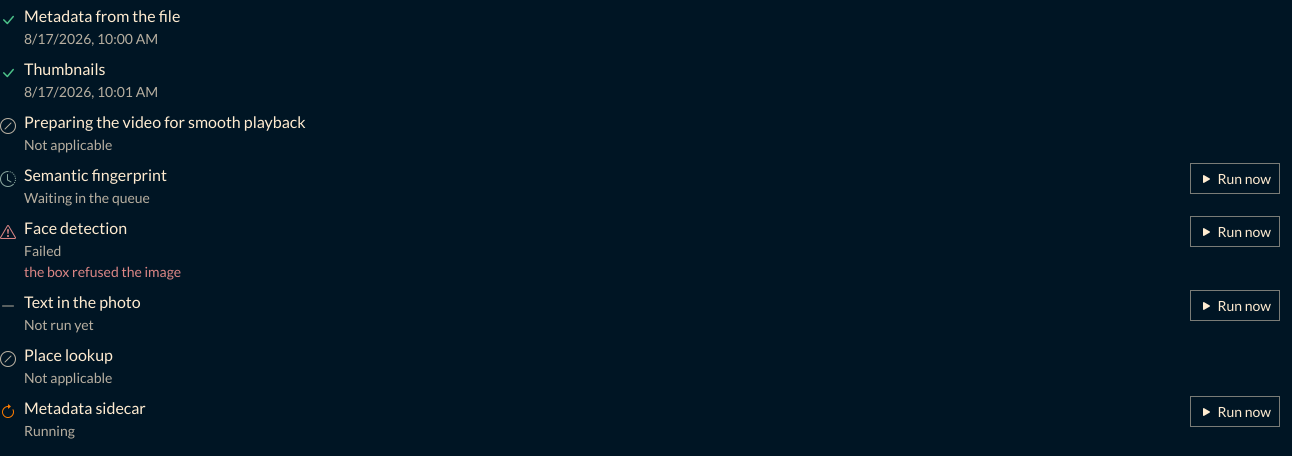
Test case: ProcessingPanel › schedules the step and refreshes its row
What coordinates should you click on to do the following:
click the button "Run now" in the row of "Text in the photo"
I would click on:
 (1235, 306)
Its box is [1190,290,1280,321].
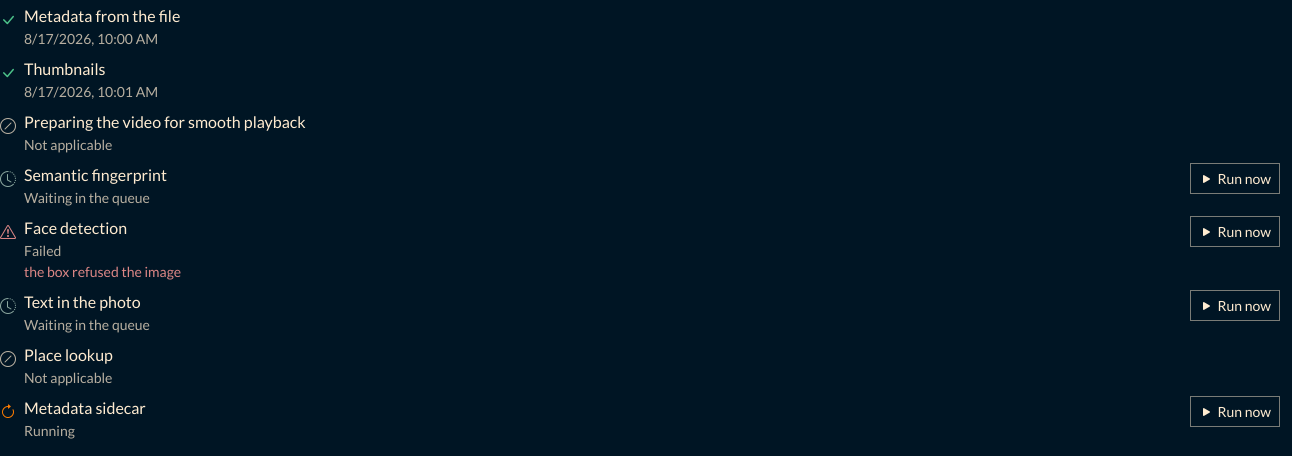
Result: the text "Waiting in the queue" below "Text in the photo" is shown at [24,316,150,333]
